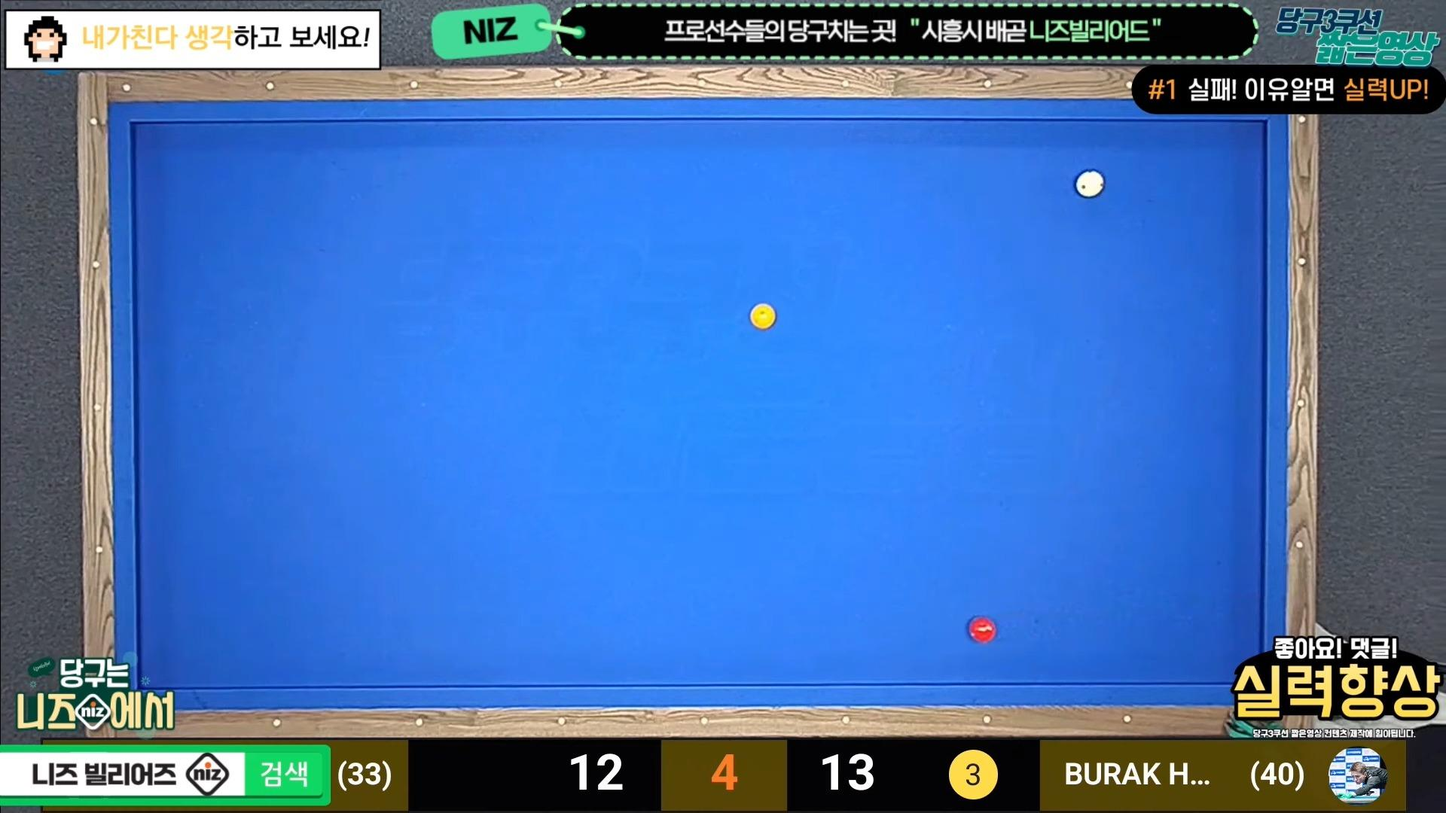-billiard-ball: (749, 302, 776, 330)
Red: (965, 618, 999, 644)
White: (1076, 171, 1110, 199)
Yellow: (750, 302, 782, 332)
